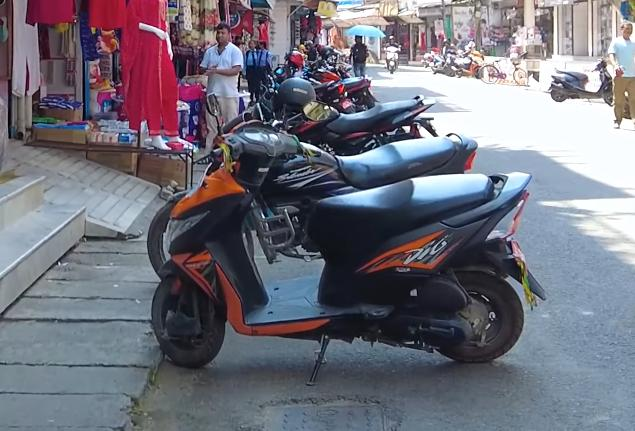scooter: (149, 92, 543, 379)
